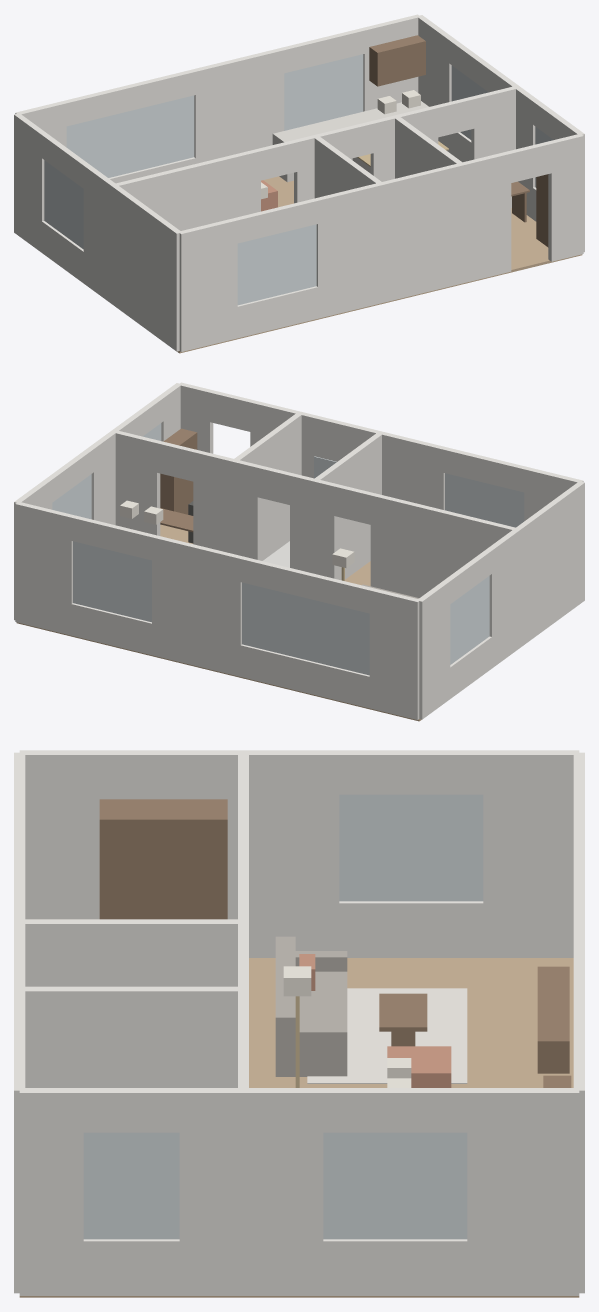
The model's file is demo-room.glb.
3 views of the same model, one above another, from view 1: azimuth 30°, elevation 25°; view 2: azimuth 150°, elevation 25°; view 3: azimuth 270°, elevation 25° (orthographic). The views are drawn at different scales.
Visible parts, largest first — view 1: wall_south_1a, wall_west_end, wall_north_1a, wall_mid_0a, wall_north_0glass, wall_south_0a, wall_south_0glass, wall_north_1glass, wall_south_end, wall_west_0a, wall_north_0head, wall_mid_end (+28 smaller); view 2: wall_west_end, wall_north_1a, wall_mid_0a, wall_north_0glass, wall_south_1a, wall_north_end, wall_mid_2a, wall_north_0a, wall_north_1glass, wall_mid_1a, wall_north_0sill, wall_west_0a (+26 smaller); view 3: wall_west_end, wall_east_1a, wall_east_0a, wall_bath_study_end, floor_oak, wall_west_0a, wall_west_0glass, wall_east_0glass, furn_wardrobe, wall_bed_bath_end, wall_east_end, wall_east_1glass (+23 smaller).
Boxes of the visible parts, x1,y1,x2,y2 form: wall_south_1a: [315, 151, 511, 318]; wall_west_end: [83, 164, 180, 351]; wall_north_1a: [192, 48, 284, 163]; wall_mid_0a: [115, 149, 260, 230]; wall_north_0glass: [66, 95, 194, 177]; wall_south_0a: [178, 218, 237, 351]; wall_south_0glass: [237, 224, 316, 305]; wall_north_1glass: [284, 54, 363, 130]; wall_south_end: [548, 133, 583, 261]; wall_west_0a: [14, 114, 46, 252]; wall_north_0head: [64, 69, 195, 126]; wall_mid_end: [471, 86, 515, 207]; wall_west_end: [487, 482, 584, 668]; wall_north_1a: [152, 535, 243, 676]; wall_mid_0a: [370, 493, 515, 597]; wall_north_0glass: [242, 582, 369, 675]; wall_south_1a: [250, 400, 446, 510]; wall_north_end: [15, 501, 74, 635]; wall_mid_2a: [193, 450, 260, 560]; wall_north_0a: [369, 588, 420, 719]; wall_north_1glass: [73, 541, 151, 622]; wall_mid_1a: [290, 473, 337, 579]; wall_north_0sill: [240, 644, 369, 708]; wall_west_0a: [418, 580, 450, 719]; wall_west_end: [19, 750, 339, 957]; wall_east_1a: [179, 1088, 323, 1295]; wall_east_0a: [467, 1088, 579, 1295]; wall_bath_study_end: [20, 986, 243, 1087]; floor_oak: [19, 958, 579, 1297]; wall_west_0a: [483, 750, 579, 957]; wall_west_0glass: [339, 794, 483, 901]; wall_east_0glass: [323, 1132, 467, 1239]; furn_wardrobe: [99, 799, 227, 919]; wall_bed_bath_end: [19, 919, 243, 986]; wall_east_end: [19, 1088, 83, 1295]; wall_east_1glass: [83, 1132, 179, 1239].
Bounding box in the file's own units: 10.14 × 2.86 × 7.14.
